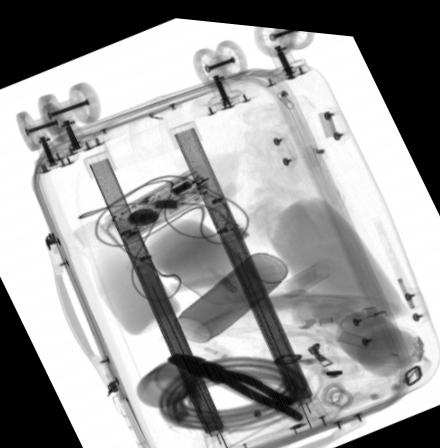Pliers: (166, 350, 302, 417)
